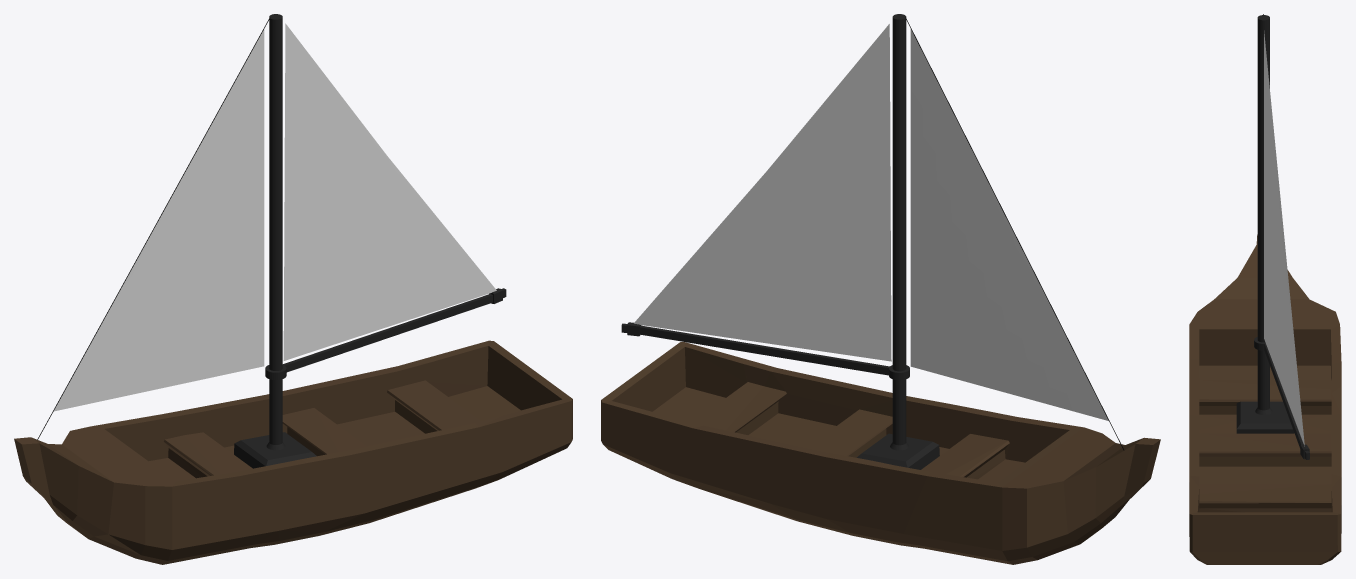
Rendered from wip_boat_optimized_with_2sail_9.fbx.
3 renders of one model, left to right at view 1: azimuth 30°, elevation 25°; view 2: azimuth 150°, elevation 25°; view 3: azimuth 270°, elevation 25°, orthographic. The views are drawn at different scales.
Visible parts, largest first — view 1: Boat, Plane.001, Plane, Mast; view 2: Boat, Plane, Plane.001, Mast; view 3: Boat, Plane, Mast.
Part boxes in pixels (left/top/right/bottom): Boat: left=14, top=340, right=572, bottom=564; Plane.001: left=53, top=29, right=264, bottom=411; Plane: left=283, top=23, right=496, bottom=360; Mast: left=265, top=14, right=506, bottom=450; Boat: left=601, top=342, right=1160, bottom=564; Plane: left=634, top=24, right=891, bottom=361; Plane.001: left=910, top=29, right=1108, bottom=420; Mast: left=621, top=14, right=909, bottom=450; Boat: left=1189, top=234, right=1341, bottom=564; Plane: left=1264, top=30, right=1304, bottom=446; Mast: left=1254, top=15, right=1309, bottom=459.
Bounding box in the file's own units: 1741 × 1614 × 485.
